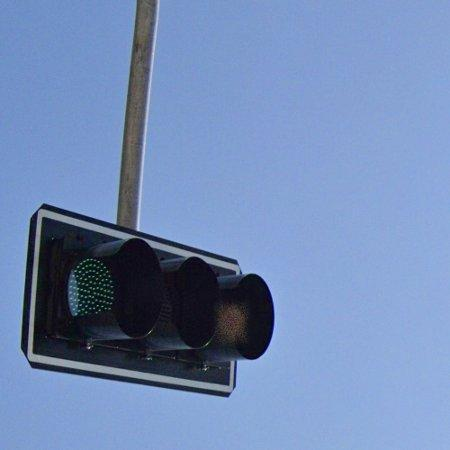traffic lights: (22, 202, 276, 400)
